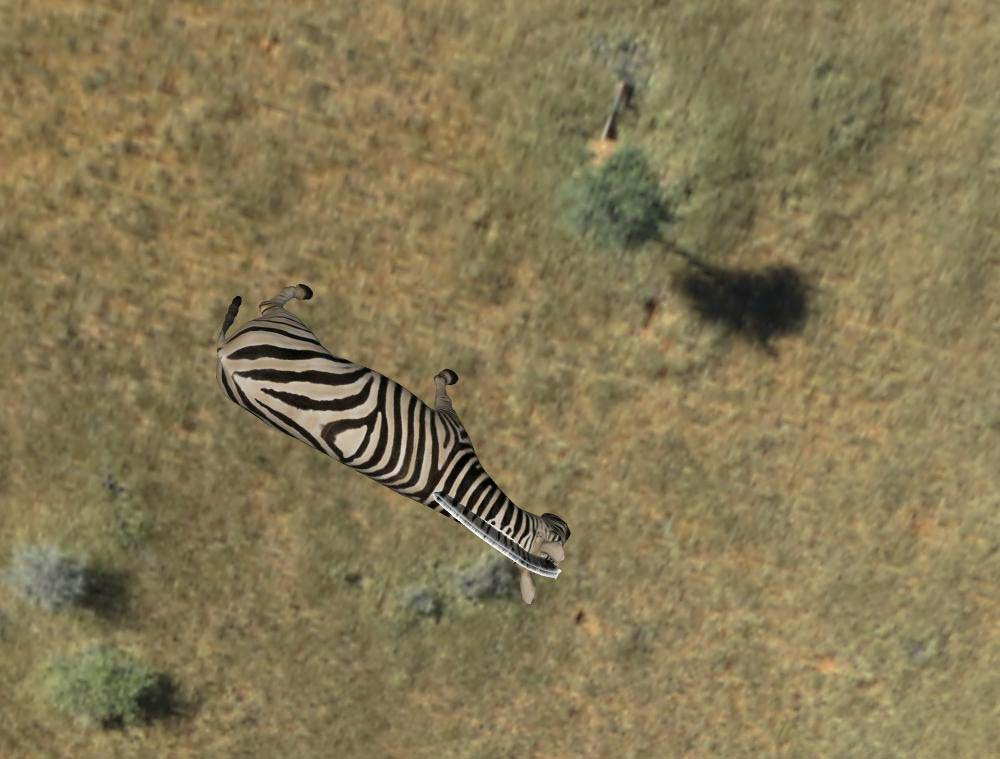zebra: (209, 281, 580, 581)
